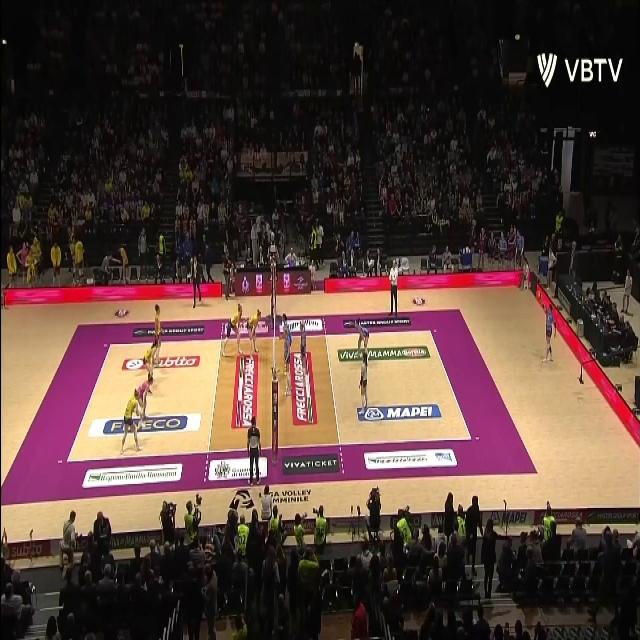volleyball court: (69, 328, 474, 461)
